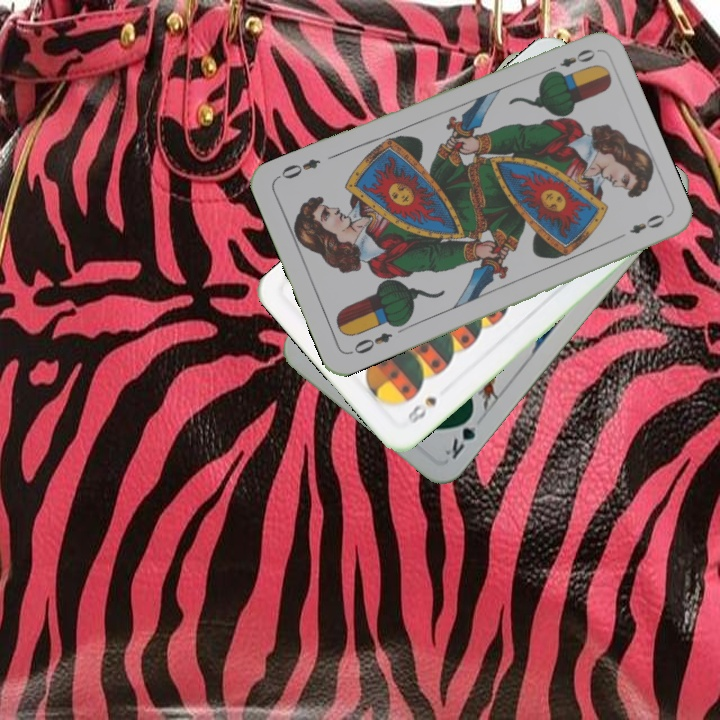EO: (542, 45, 598, 78), (345, 328, 395, 357)
GK: (441, 408, 480, 462)
S8: (403, 392, 439, 427)
